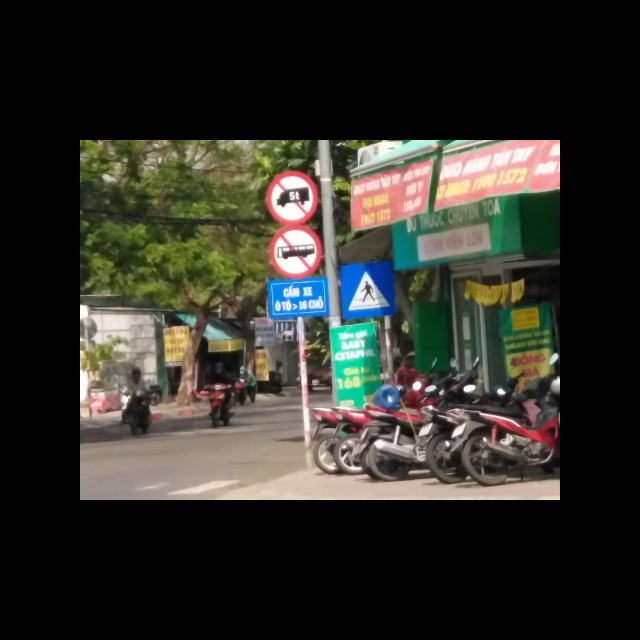Cấm xe tải: (266, 171, 319, 225)
Cấm xe xe khách: (267, 225, 323, 278)
Đường dành cho người đi bộ: (338, 263, 398, 317)
